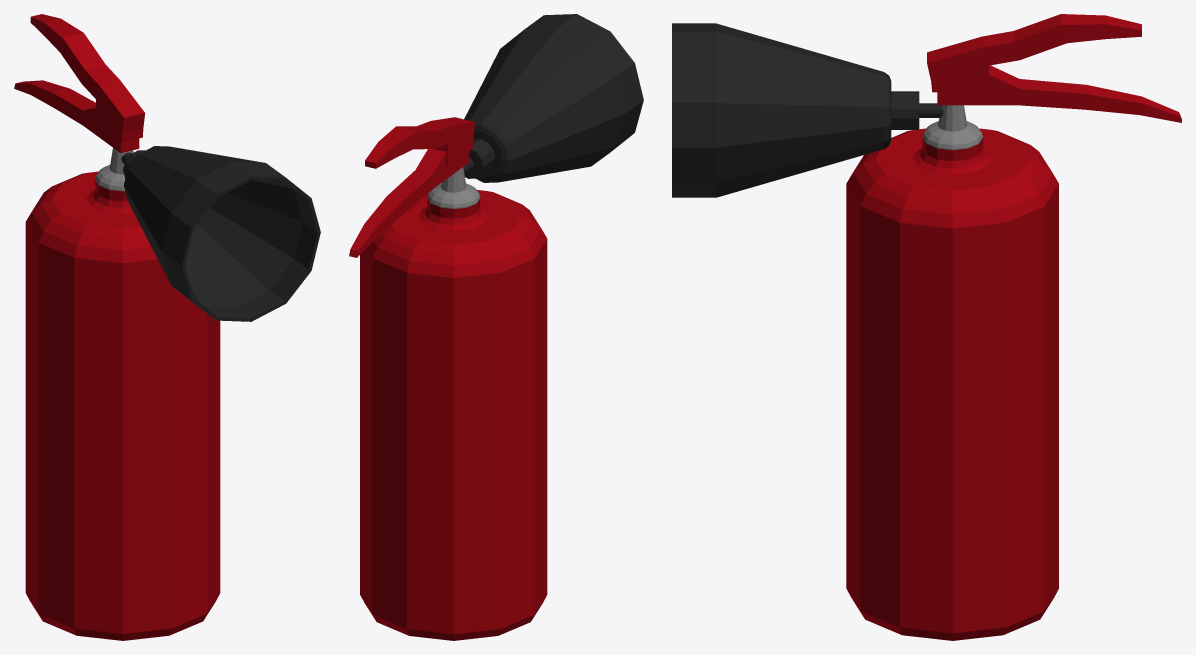
File: NEWGAME_ognitusiteli.fbx
3 views of the same model, side by side, from view 1: azimuth 30°, elevation 25°; view 2: azimuth 150°, elevation 25°; view 3: azimuth 270°, elevation 25° (orthographic). The views are drawn at different scales.
Visible parts, largest first — view 1: Cylinder.060, Cylinder.062, Cube.067, Cube.068, Cylinder.061; view 2: Cylinder.060, Cylinder.062, Cube.068, Cube.067, Cylinder.061; view 3: Cylinder.060, Cylinder.062, Cube.067, Cube.068, Cylinder.061.
Boxes of the visible parts, x1,y1,x2,y2 form: Cylinder.060: (25,171,220,640); Cylinder.062: (121,146,320,321); Cube.067: (30,14,144,142); Cube.068: (14,80,139,152); Cylinder.061: (95,148,133,191); Cylinder.060: (360,190,547,640); Cylinder.062: (463,14,643,182); Cube.068: (349,149,469,257); Cube.067: (365,117,474,168); Cylinder.061: (427,167,480,208); Cylinder.060: (846,128,1058,640); Cylinder.062: (672,23,943,197); Cube.067: (927,14,1141,92); Cube.068: (937,65,1181,122); Cylinder.061: (922,105,983,150).
Bounding box in the file's own units: 200 × 605 × 479.
